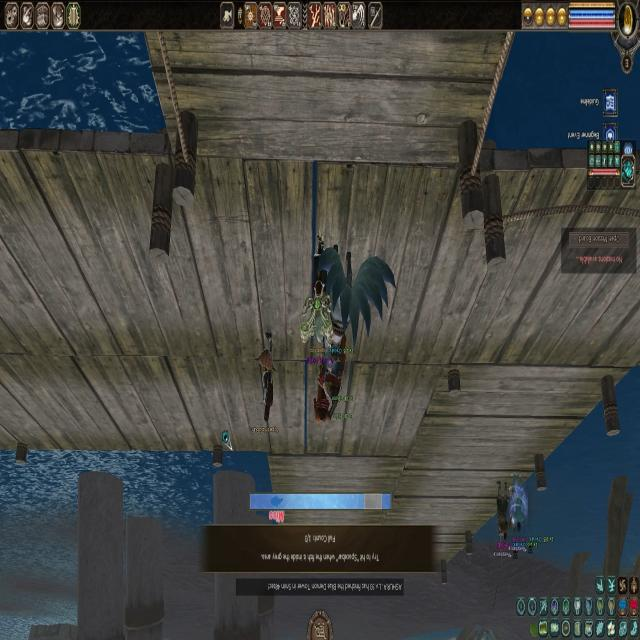box: (364, 493, 382, 509)
fishes: (270, 494, 284, 509)
